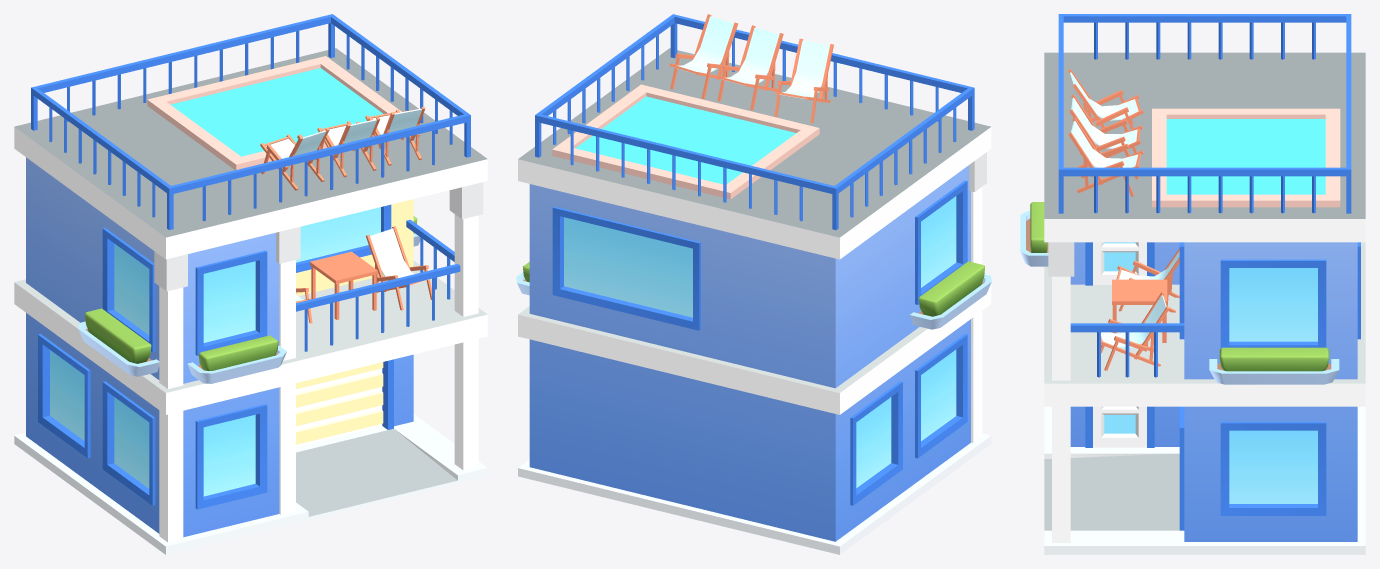
File: city2-building-living-12.glb
3 renders of one model, left to right at view 1: azimuth 30°, elevation 25°; view 2: azimuth 150°, elevation 25°; view 3: azimuth 270°, elevation 25°, orthographic. The views are drawn at different scales.
Parts seen in each view (by area): view 1: Building_Living_12; view 2: Building_Living_12; view 3: Building_Living_12.
Boxes of the visible parts, box(x1,y1,x2,y2) form: Building_Living_12: box(14, 14, 487, 554); Building_Living_12: box(516, 14, 991, 554); Building_Living_12: box(1020, 14, 1365, 554).
Bounding box in the file's own units: 9.02 × 8.89 × 7.04.
Materials: 1 (1 with a texture image).
